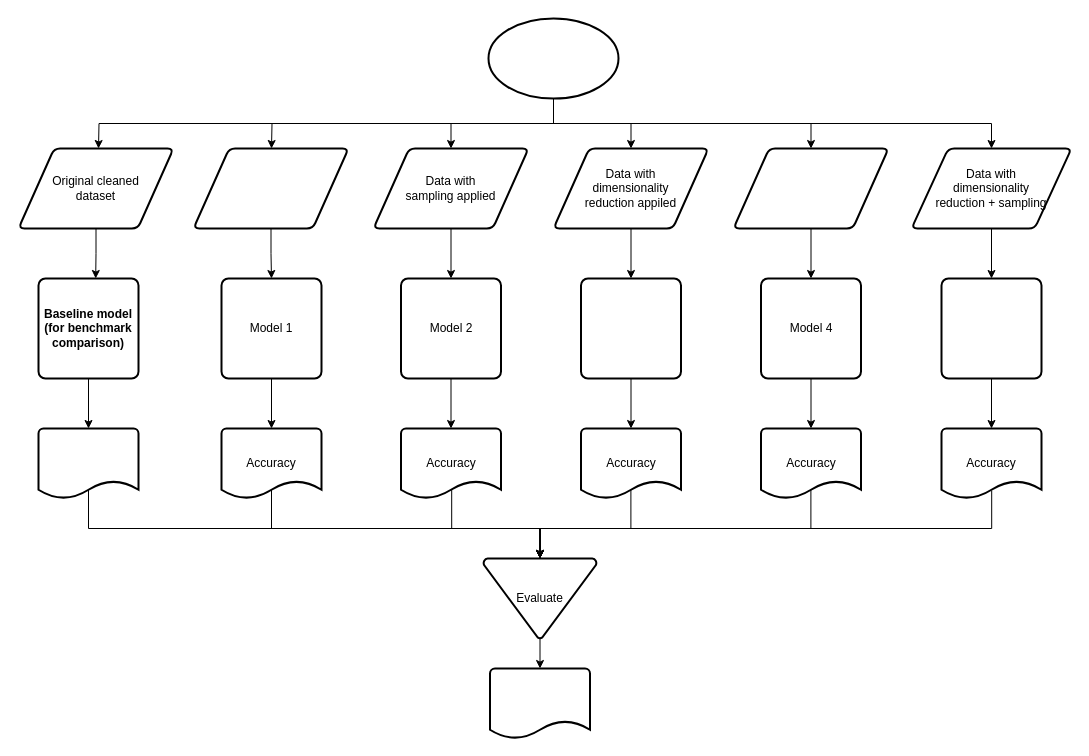
Some shapes in this 1089 by 756 pixel diagram are drawn without their labels. The box of each missing label's shape, as (x1, y1, x2, y2) in pixels:
Benchmark Accuracy: (37, 427, 139, 499)
Data with significant features: (192, 147, 349, 229)
Data with significant features + sampling: (732, 147, 889, 229)
Model 3: (580, 277, 682, 379)
Model 5: (940, 277, 1042, 379)
Model Building Process: (487, 17, 619, 99)
Model with Best Accuracy: (488, 667, 590, 739)
